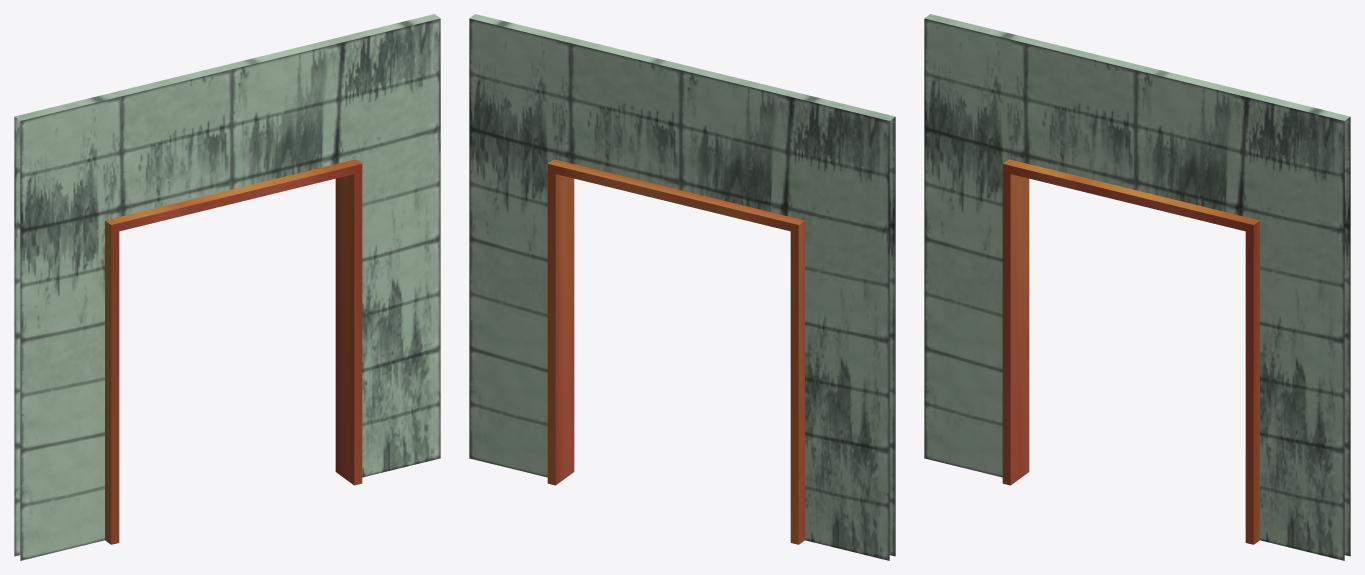
Rendered from sm_wall_door_02x005x02_a.fbx.
3 views of the same model, side by side, from view 1: azimuth 30°, elevation 25°; view 2: azimuth 150°, elevation 25°; view 3: azimuth 330°, elevation 25° (orthographic).
Parts seen in each view (by area): view 1: sm_wall_door_02x005x02_a; view 2: sm_wall_door_02x005x02_a; view 3: sm_wall_door_02x005x02_a.
Boxes of the visible parts, bbox=[...] form: sm_wall_door_02x005x02_a: bbox=[14, 14, 440, 560]; sm_wall_door_02x005x02_a: bbox=[469, 14, 895, 560]; sm_wall_door_02x005x02_a: bbox=[924, 14, 1350, 560].
Size of the model in its own units: 200 by 200 by 15.24.
